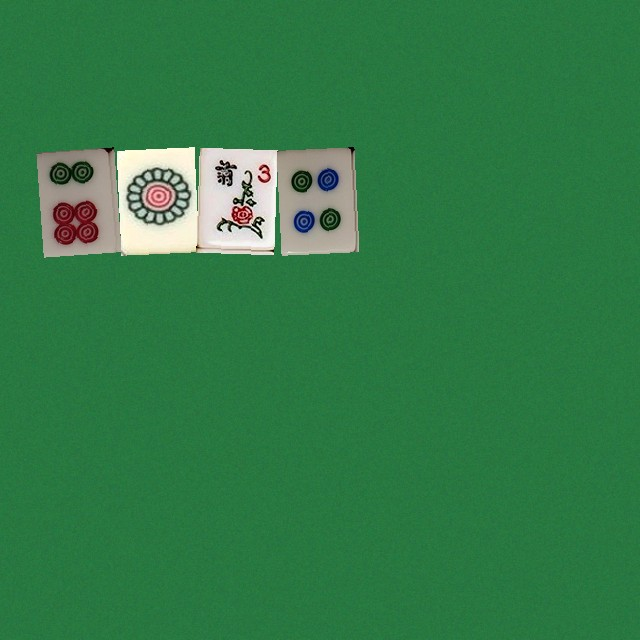tile: (36, 147, 114, 252), (116, 147, 194, 252), (196, 147, 274, 252), (276, 147, 354, 252)
